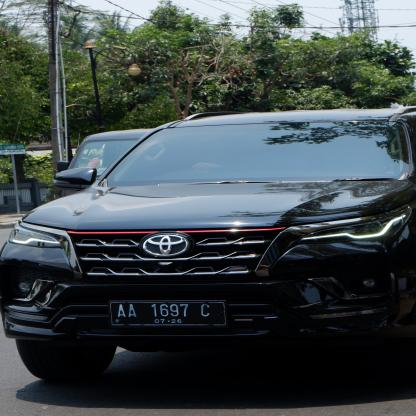Plat-Nomor: (106, 298, 228, 330)
